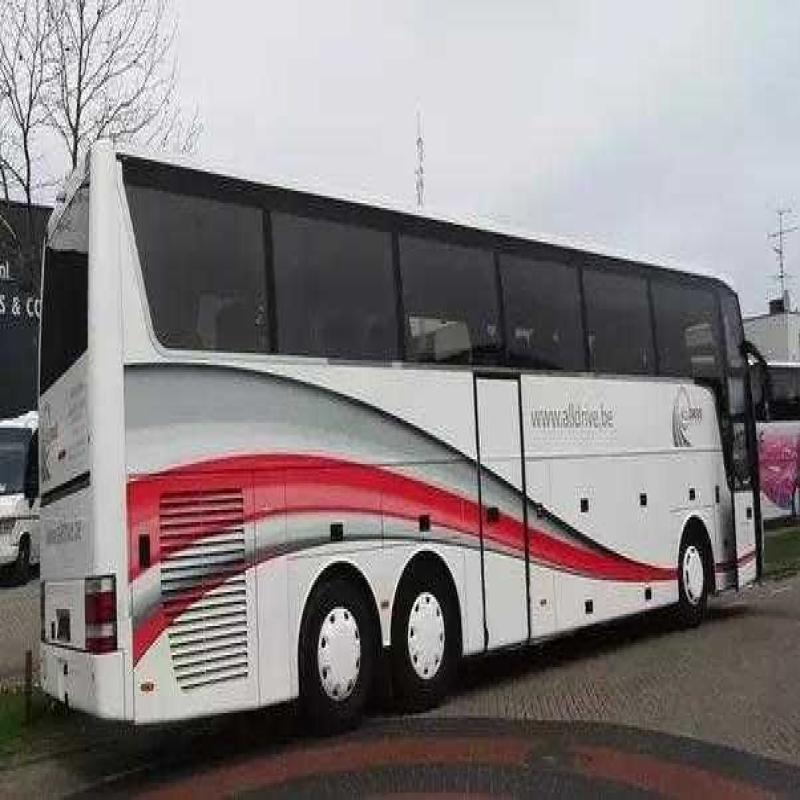bus: (35, 116, 760, 729)
